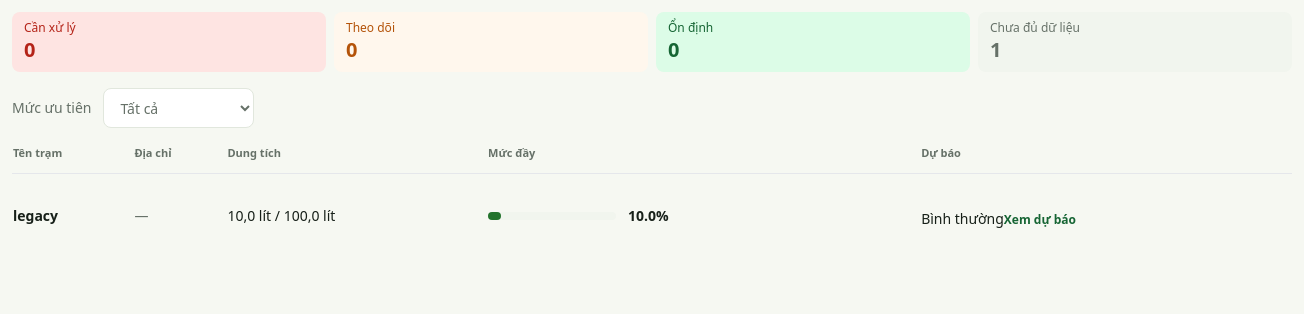
Test case: fallback an toàn khi response cũ thiếu fill_forecast
Click the button "Xem dự báo": {"x": 1040, "y": 220} x1=1004 y1=198 x2=1076 y2=242
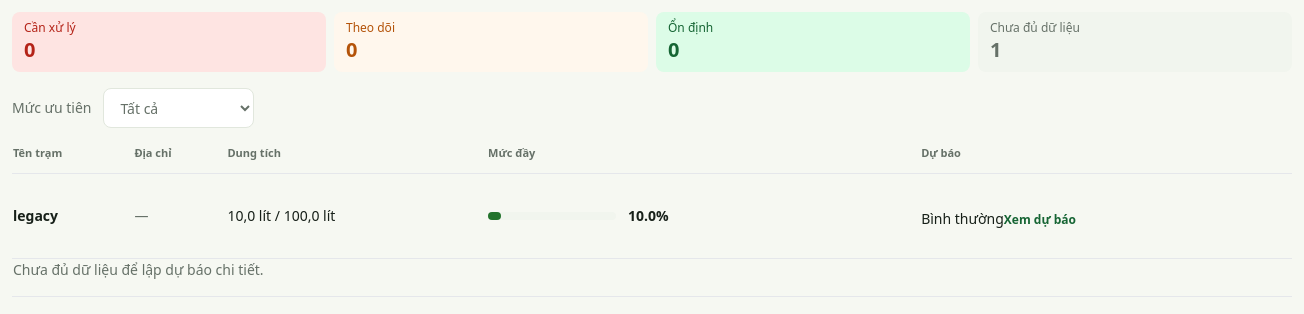
Expected: the text "Chưa đủ dữ liệu để lập dự báo chi tiết." is shown, x1=13 y1=260 x2=264 y2=279
